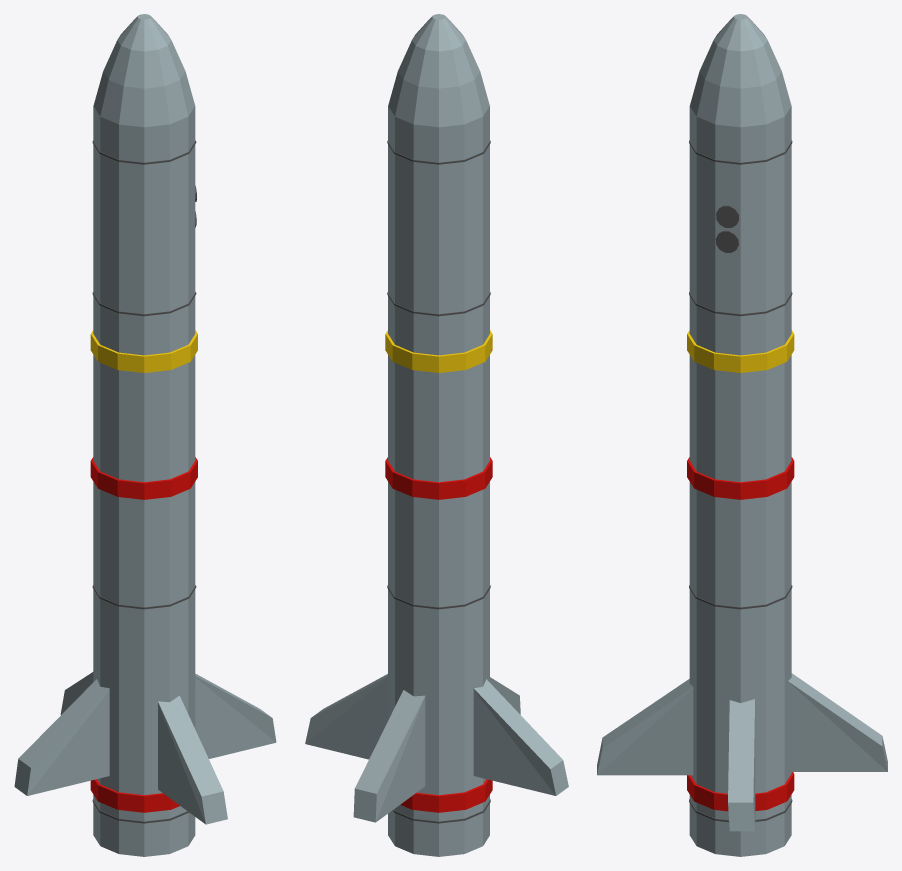
The picture shows the model from 3 angles, left to right: view 1: azimuth 30°, elevation 25°; view 2: azimuth 150°, elevation 25°; view 3: azimuth 270°, elevation 25°; orthographic projection.
Bounding box in the file's own units: 1.59 × 4.97 × 1.6.
